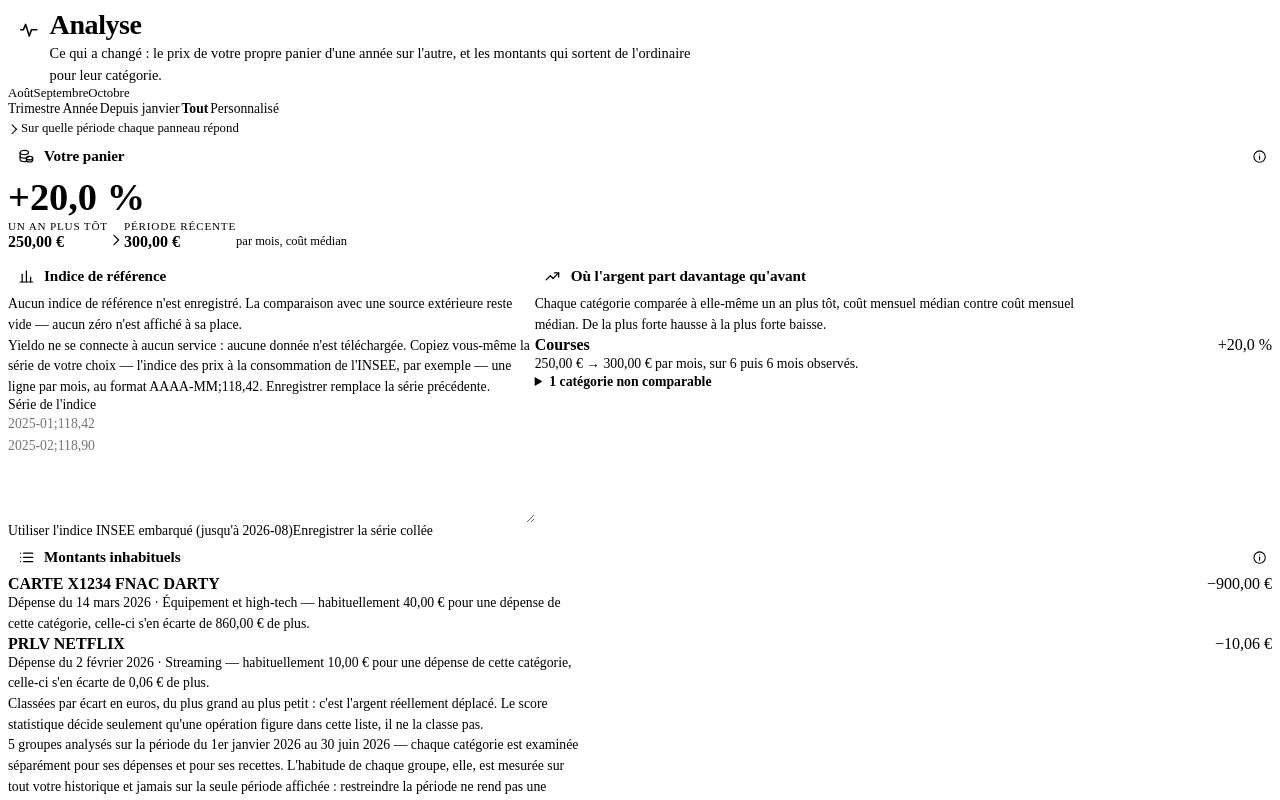
Test: AnalysisPage — inflation › names both windows being compared
The image size is (1280, 800).
Click the button named "Comment ce panier est mesuré".
click(1260, 156)  # box [1248,144,1272,168]
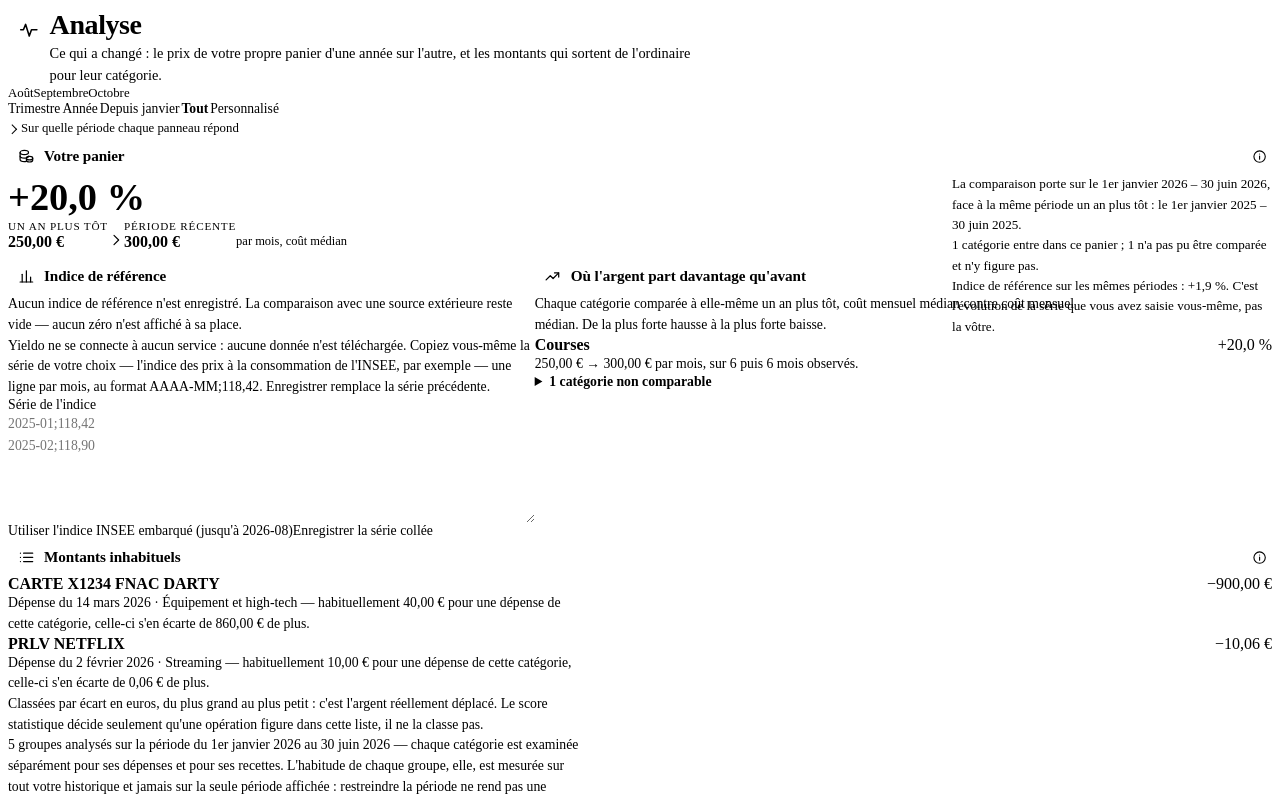
Check: the tooltip shows "1er janvier 2026 – 30 juin 2026", box [952,176,1270,232]
Check: the tooltip shows "1er janvier 2025 – 30 juin 2025", box [952,176,1270,232]
